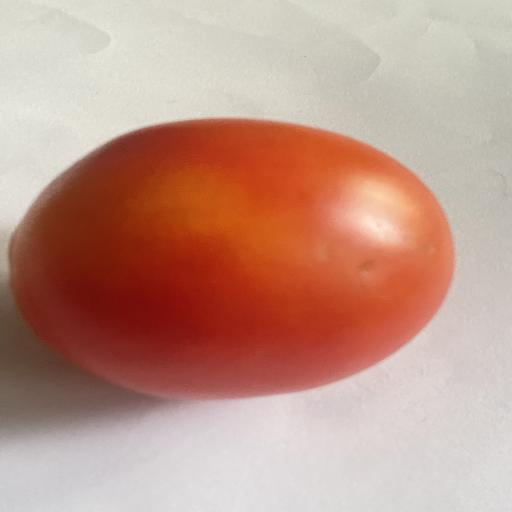ripe: (9, 119, 454, 398)
